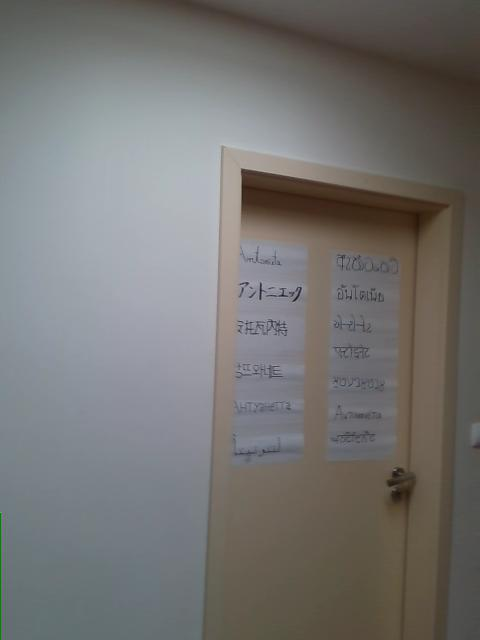door: (226, 185, 417, 636)
